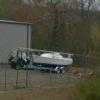Boat: (11, 40, 76, 81)
